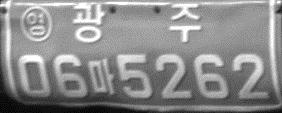0: (17, 53, 51, 99)
2: (231, 53, 269, 100), (154, 53, 191, 99)
5: (116, 53, 153, 100)
6: (193, 53, 228, 100), (52, 53, 87, 98)
광주_D: (70, 3, 201, 43)
마: (89, 59, 115, 96)
영: (20, 6, 53, 42)
